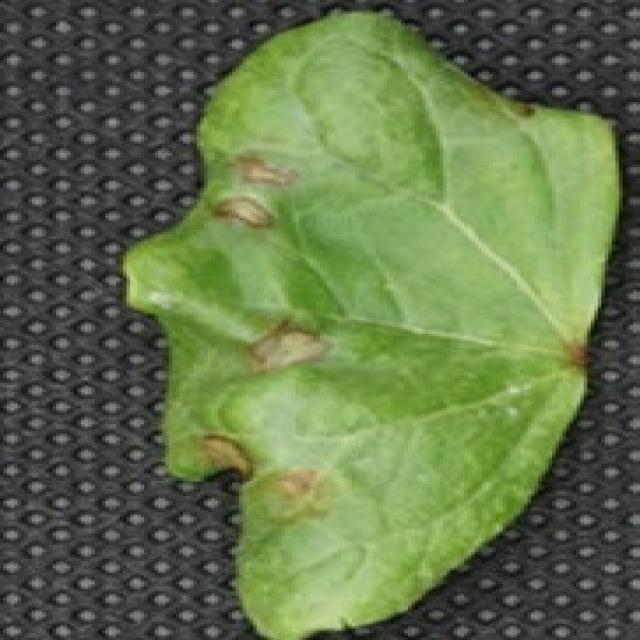Fusarium Wilt: (205, 153, 320, 246), (233, 312, 347, 375)
